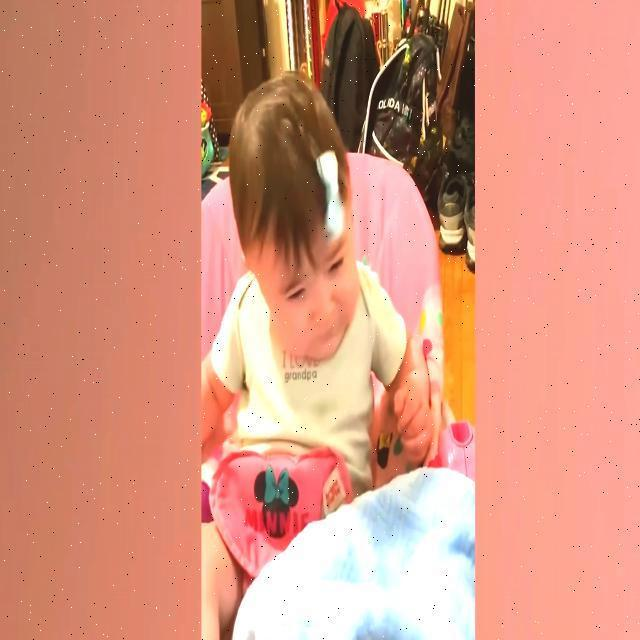child: (202, 69, 434, 640)
